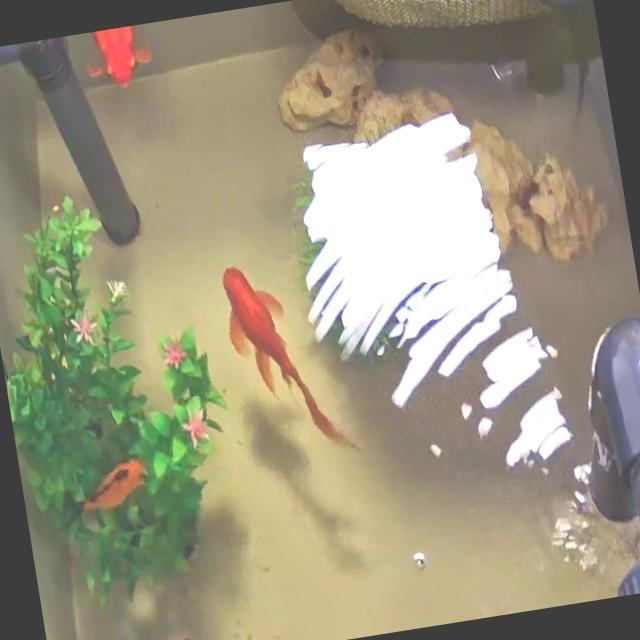fish: (222, 250, 355, 468), (75, 458, 154, 517), (84, 24, 154, 90)
